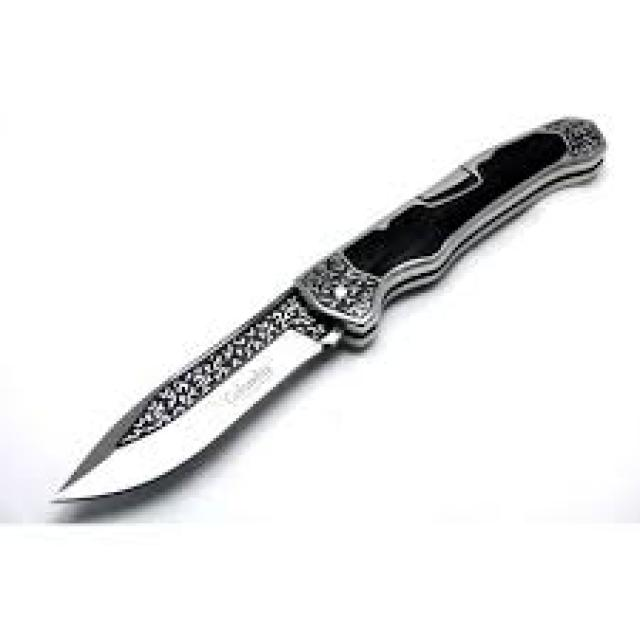knives: (46, 108, 612, 515)
